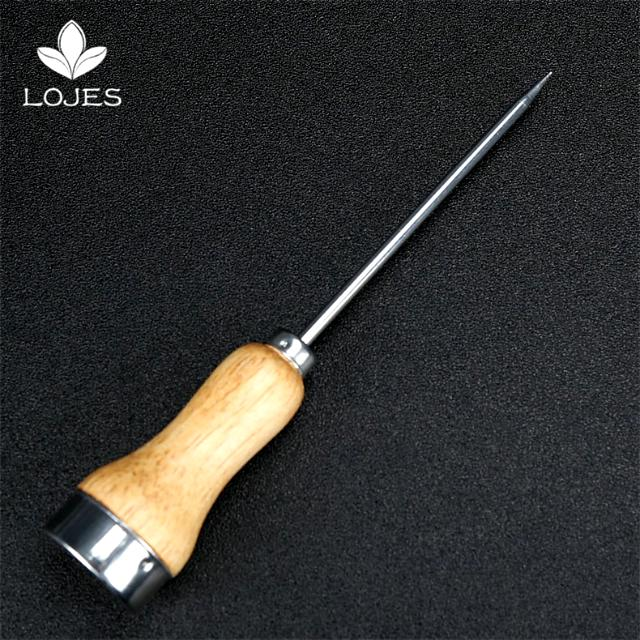ice pick: (42, 70, 554, 612)
